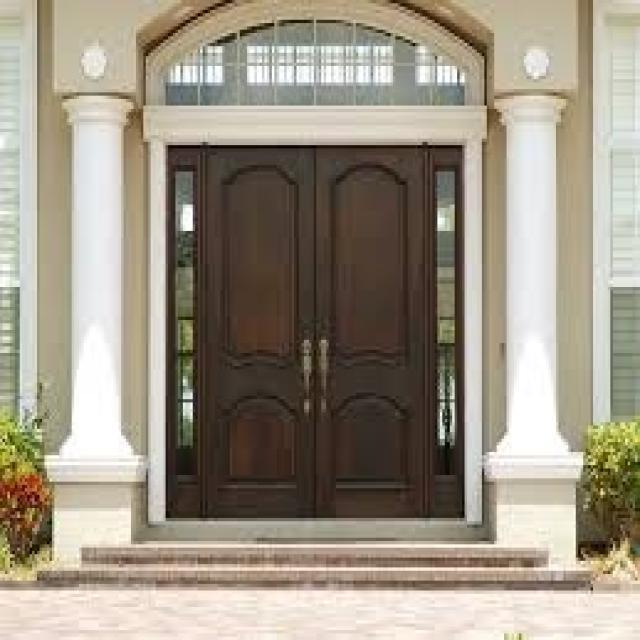door: (192, 143, 434, 520)
